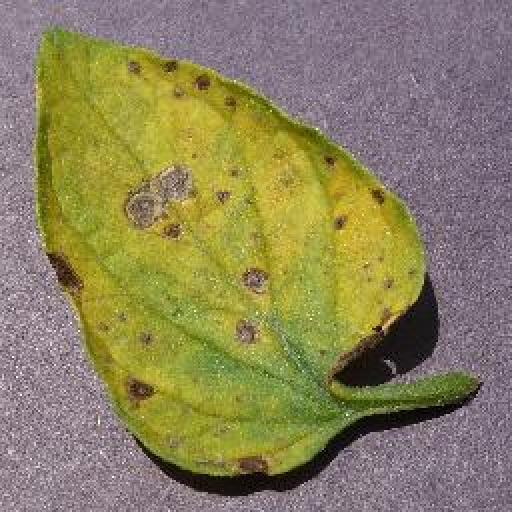Septoria: (33, 23, 428, 477)
